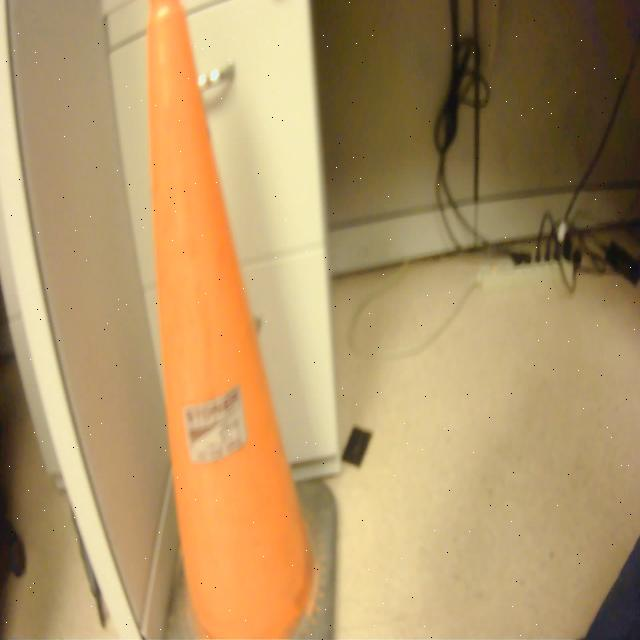traffic cone: (143, 1, 346, 640)
